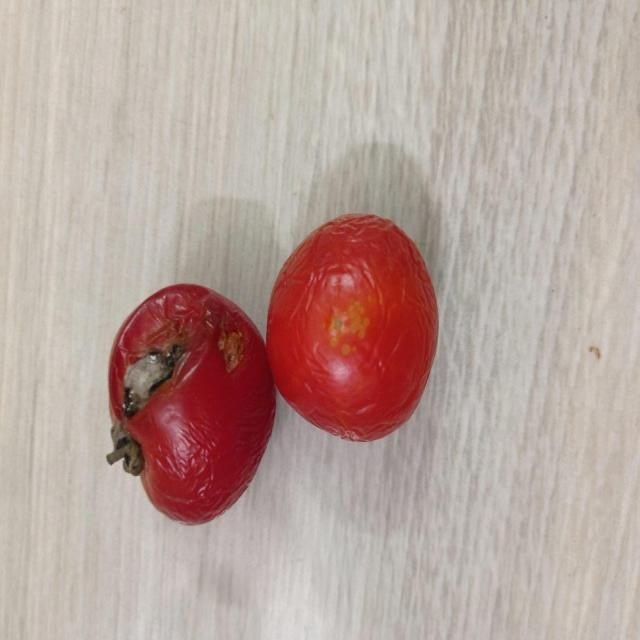Rotten: (106, 282, 274, 528)
